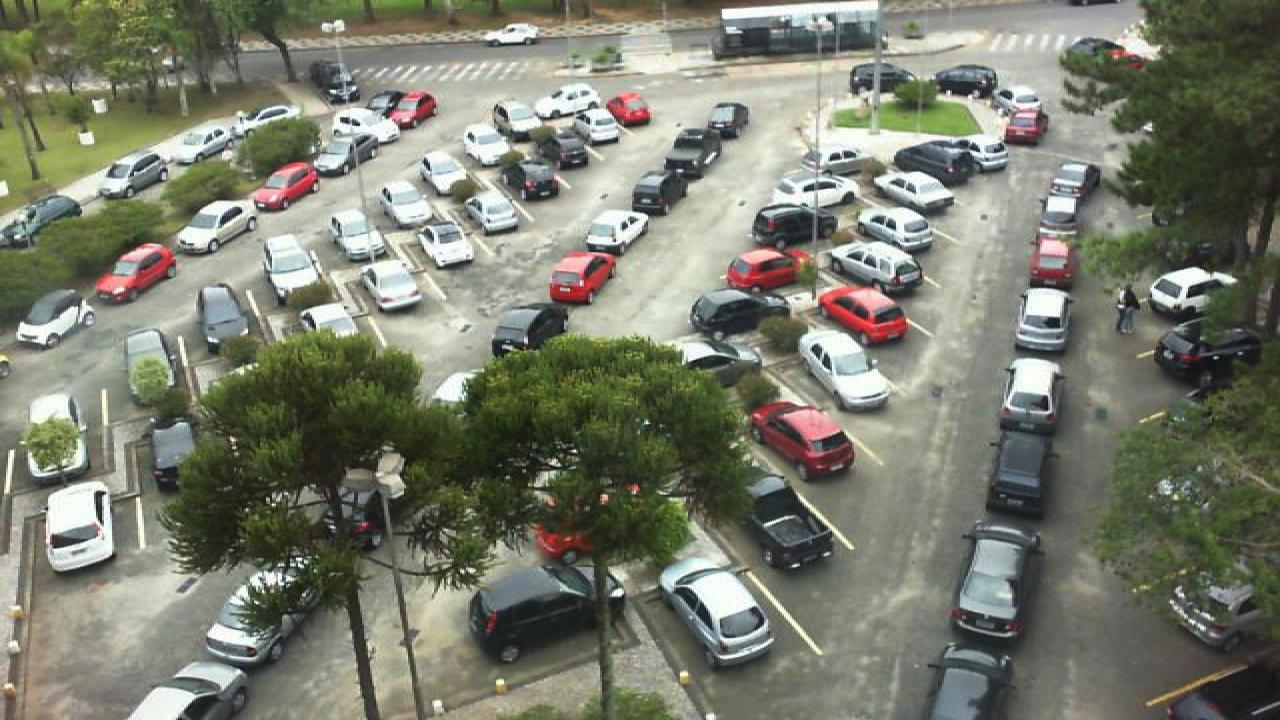Car: (468, 561, 626, 664), (658, 554, 776, 670), (942, 522, 1044, 638), (740, 472, 838, 570), (746, 398, 858, 483), (200, 595, 320, 668), (794, 326, 894, 413), (1168, 574, 1270, 654), (1152, 316, 1266, 386), (126, 660, 258, 720), (924, 641, 1016, 720), (44, 480, 116, 572), (20, 391, 90, 483), (814, 284, 912, 346), (986, 428, 1052, 516), (90, 242, 176, 305), (822, 241, 924, 294), (1148, 264, 1242, 320), (690, 288, 790, 339), (124, 326, 186, 408), (1000, 357, 1066, 433), (14, 288, 94, 350), (0, 194, 82, 253), (172, 199, 258, 255), (724, 246, 814, 296), (490, 303, 570, 359), (750, 201, 836, 251), (194, 282, 252, 356), (150, 416, 202, 494), (1012, 285, 1072, 351), (852, 210, 938, 255), (668, 338, 752, 384), (546, 252, 618, 305), (872, 170, 958, 214), (262, 234, 322, 297), (892, 140, 980, 182), (252, 161, 318, 213), (96, 154, 172, 199), (298, 300, 368, 348), (362, 261, 424, 314), (330, 209, 388, 263), (586, 210, 650, 256), (770, 175, 862, 207), (310, 134, 380, 176), (416, 222, 476, 271), (162, 128, 238, 166), (502, 158, 564, 202), (630, 169, 684, 216), (848, 62, 918, 98), (378, 182, 432, 228), (462, 194, 520, 236), (376, 90, 438, 129), (464, 122, 514, 170), (416, 156, 470, 200), (668, 128, 722, 172), (310, 61, 362, 106), (1028, 234, 1072, 287), (802, 146, 870, 180), (1038, 189, 1084, 239), (934, 64, 998, 99), (488, 100, 546, 138), (538, 83, 598, 119), (954, 136, 1010, 174), (334, 106, 400, 138), (544, 126, 592, 169), (1048, 162, 1102, 200), (236, 104, 300, 136), (1002, 104, 1048, 145), (604, 91, 652, 128), (706, 102, 750, 142), (574, 116, 620, 153), (484, 22, 538, 48), (996, 86, 1042, 112)
